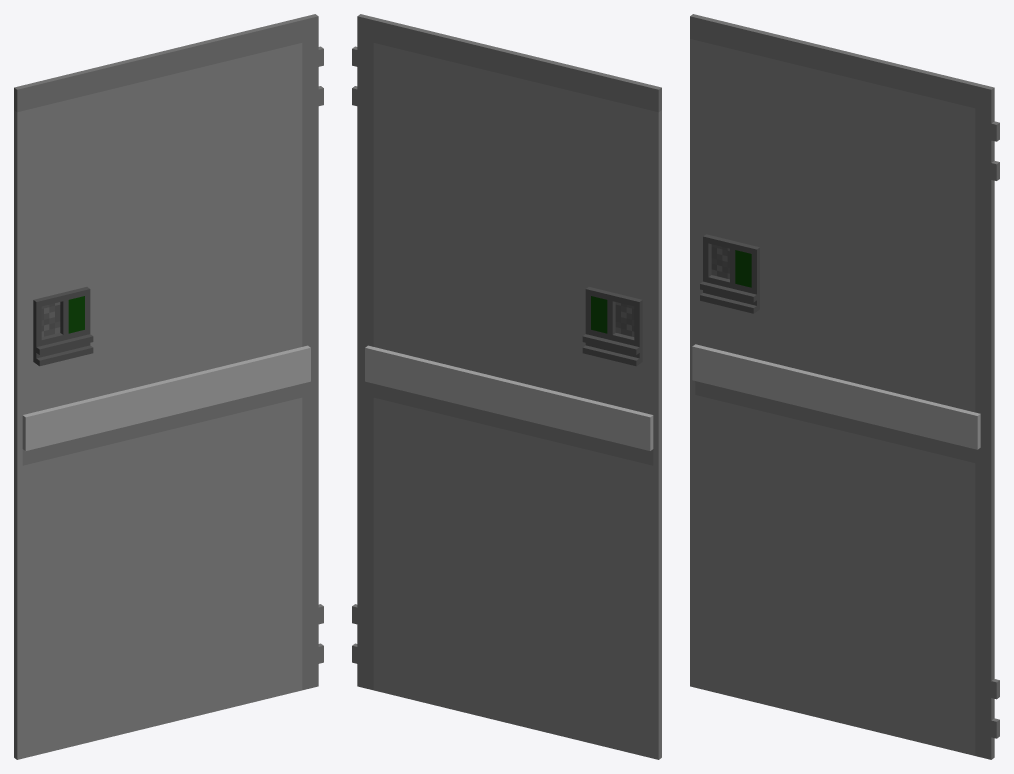
The model's file is Keycard door-1-Door Frame-0-Door.obj.
3 views of the same model, side by side, from view 1: azimuth 30°, elevation 25°; view 2: azimuth 150°, elevation 25°; view 3: azimuth 330°, elevation 25° (orthographic).
Parts seen in each view (by area): view 1: Door; view 2: Door; view 3: Door.
Boxes of the visible parts, x1,y1,x2,y2 form: Door: (14,14,323,759); Door: (352,14,661,759); Door: (690,14,999,759).
Size of the model in its own units: 5.7 by 11.9 by 0.5.
Materials: 1 (1 with a texture image).
